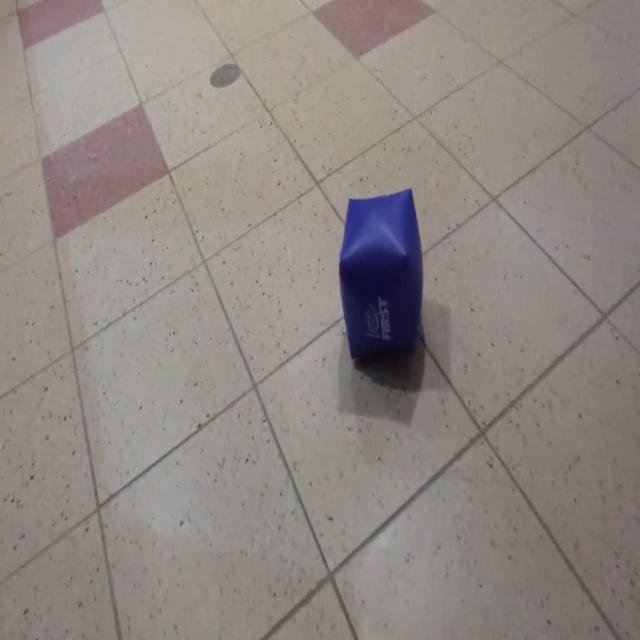frc_cube: (337, 187, 425, 361)
